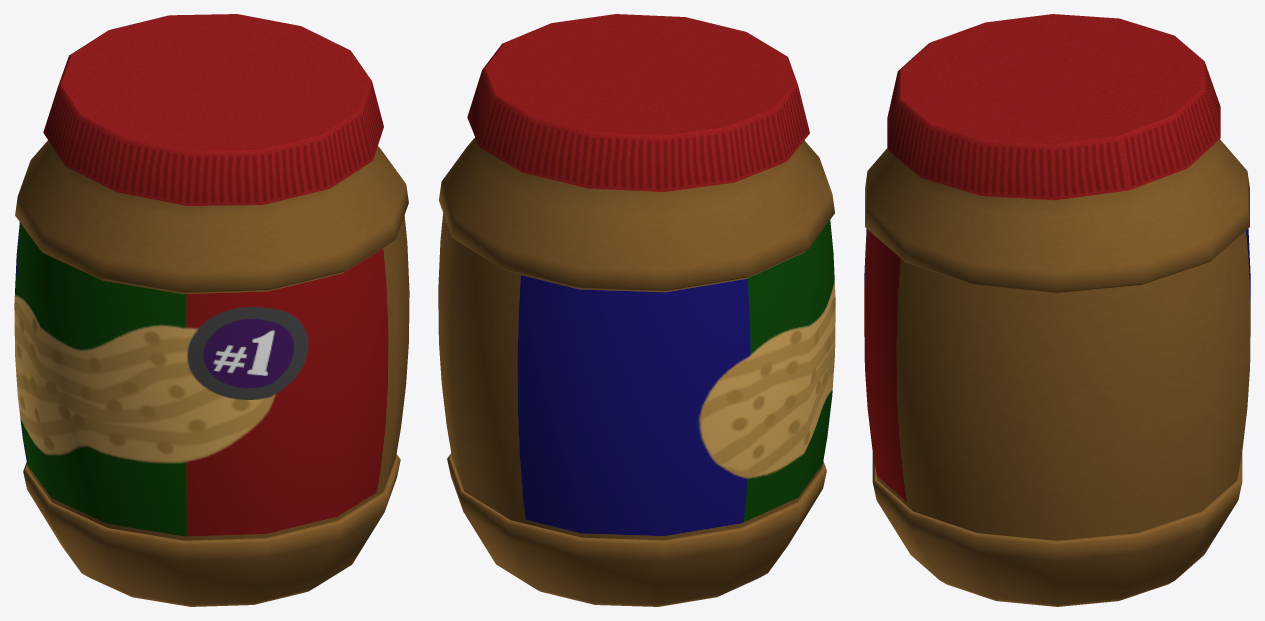
The model's file is NutButterFunk.FBX.
The picture shows the model from 3 angles, left to right: view 1: azimuth 30°, elevation 25°; view 2: azimuth 150°, elevation 25°; view 3: azimuth 270°, elevation 25°; orthographic projection.
Visible parts, largest first — view 1: Cylinder001; view 2: Cylinder001; view 3: Cylinder001.
Part boxes in pixels (bbox=[...]): Cylinder001: bbox=[14, 14, 409, 606]; Cylinder001: bbox=[438, 14, 835, 606]; Cylinder001: bbox=[864, 14, 1250, 606].
Size of the model in its own units: 6.55 by 8.66 by 6.39.
